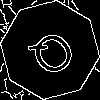Q: (25, 25, 85, 88)
